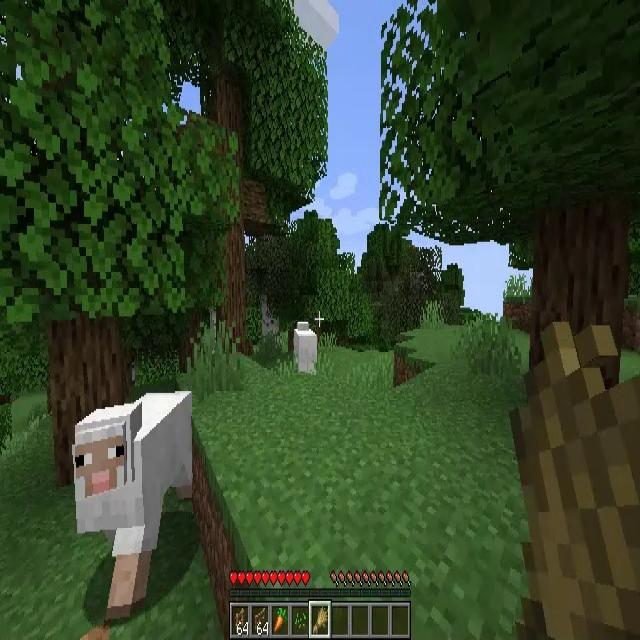sheep: (73, 389, 201, 614), (293, 321, 317, 377)
